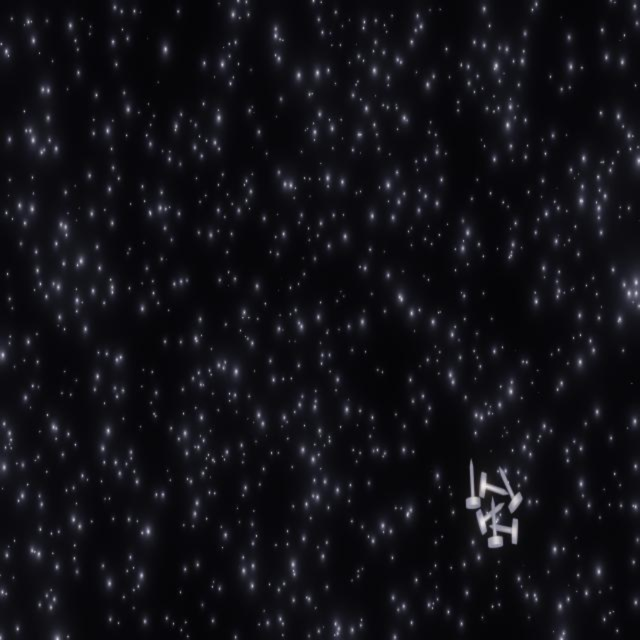large_debris: (465, 455, 526, 557)
